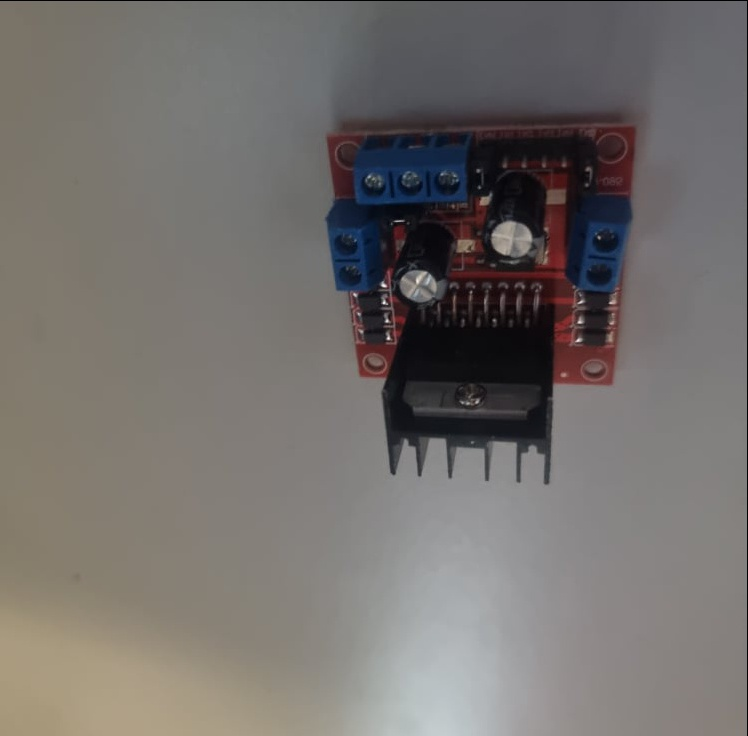MOTOR: (326, 123, 636, 485)
